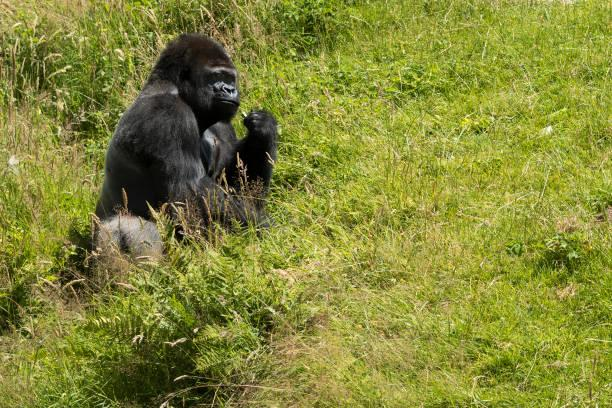gorille_Autres: (80, 18, 290, 273)
